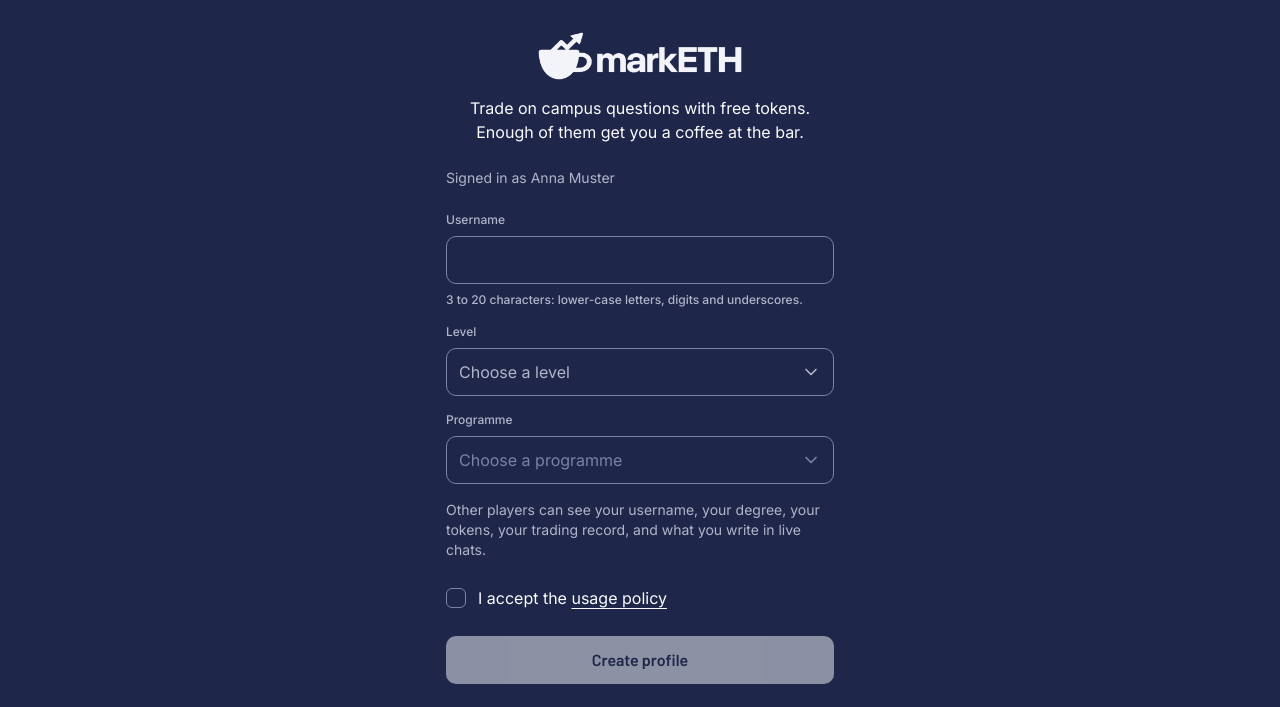
Scenario: a caller without a profile › is not welcomed again when the save did not create the profile
Type "anna_m" into the field labelled "Username". click: (640, 260)
box: [446,236,834,284]
Click the button labelled "Choose a level". click: (514, 372)
box: [446,348,834,396]
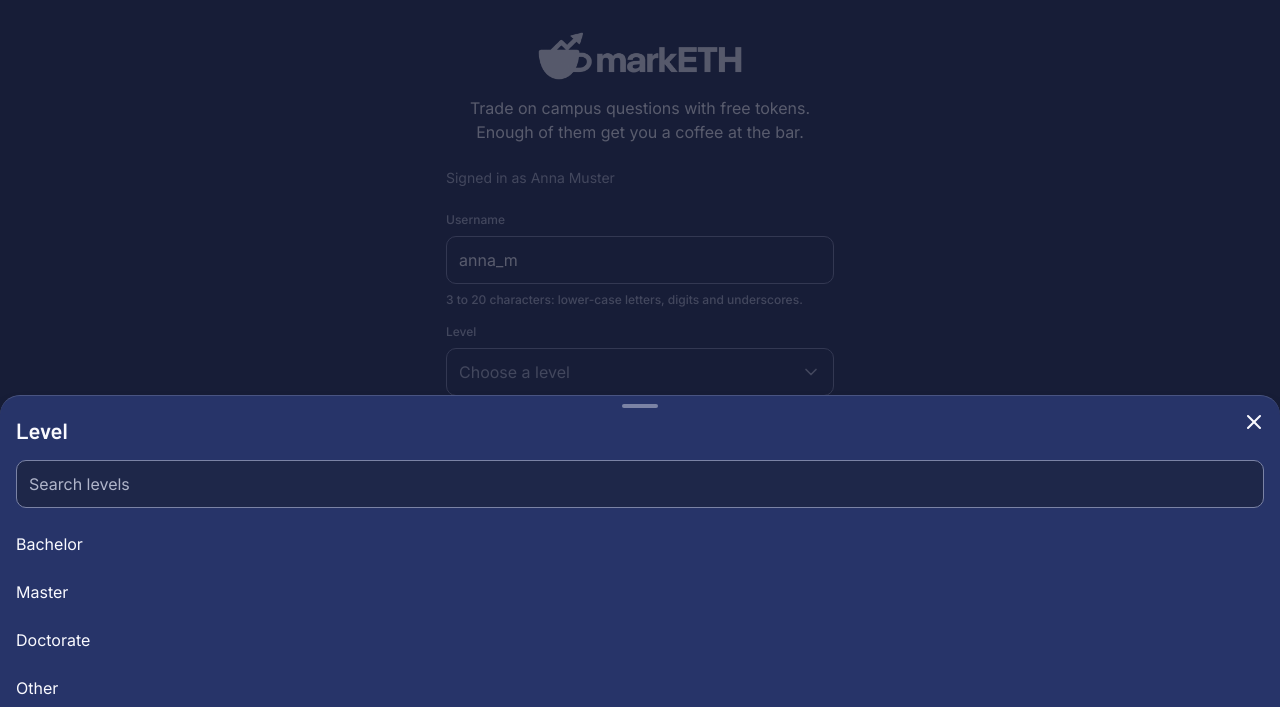
Click the option "Bachelor". click: (49, 544)
box: [16,534,83,554]
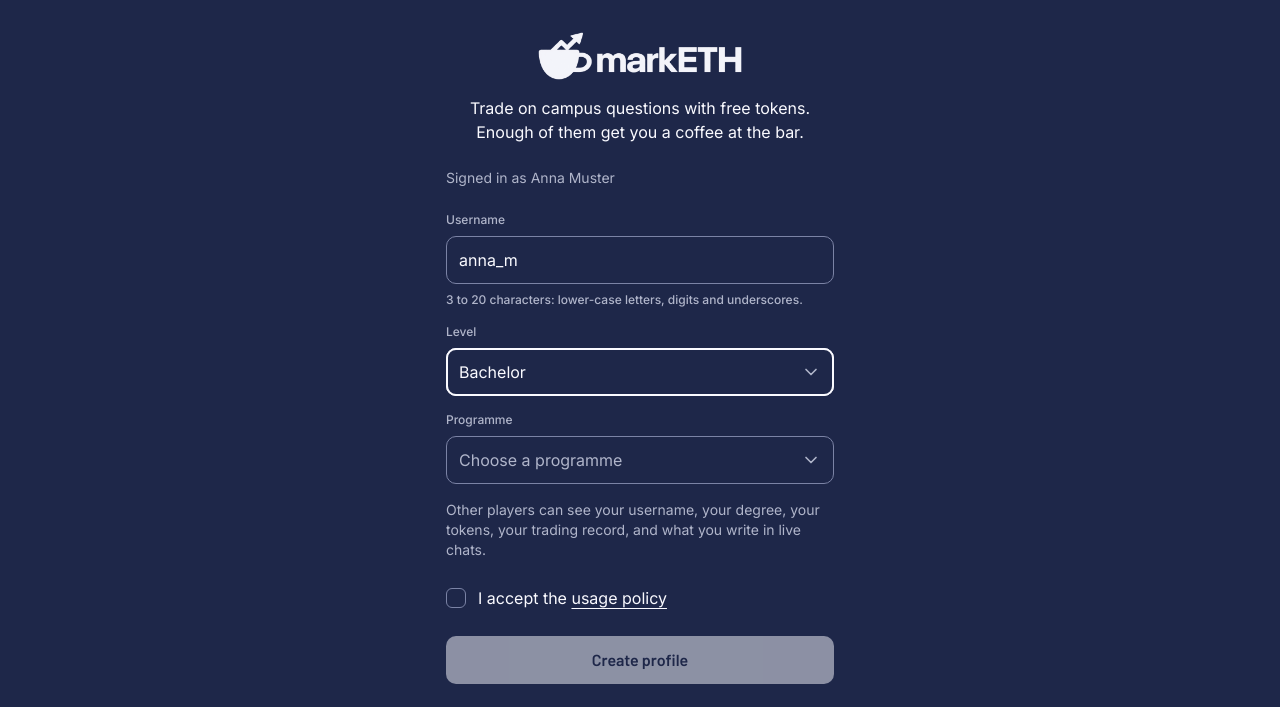
Click the button labelled "Choose a programme". click: (541, 460)
box: [446,436,834,484]
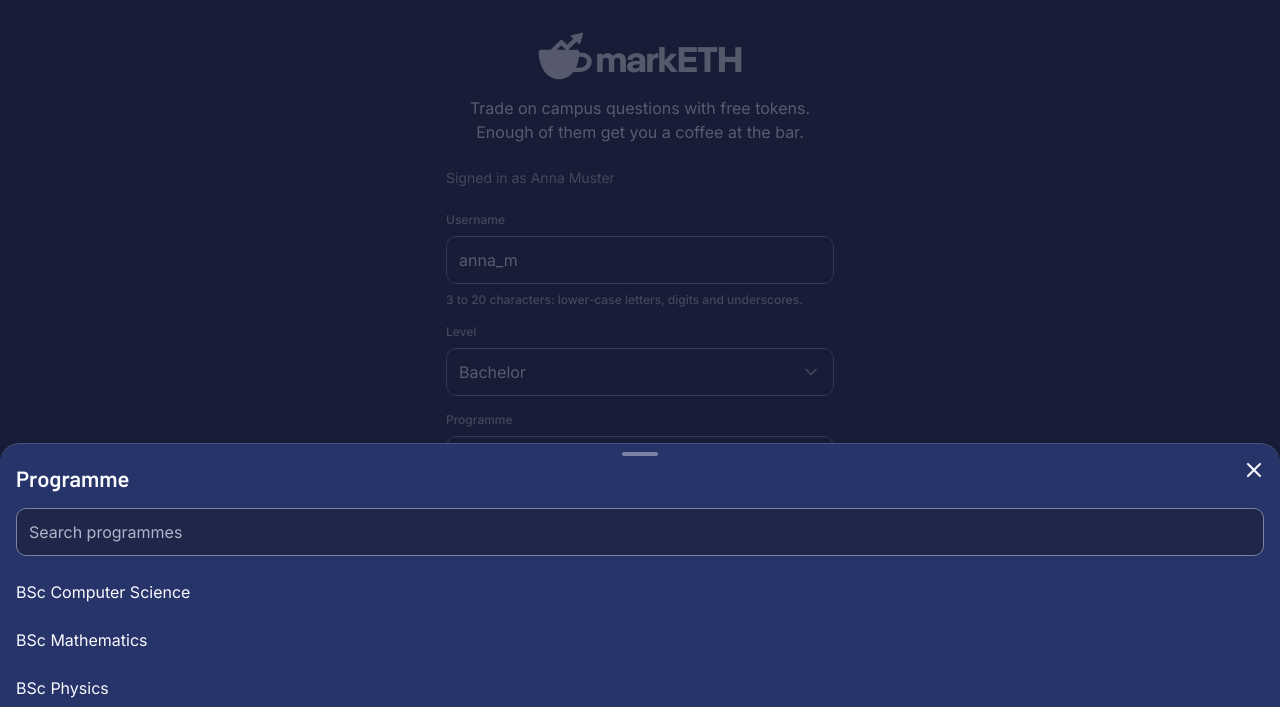
Click the option "BSc Computer Science". click: (103, 592)
box: [16,582,190,602]
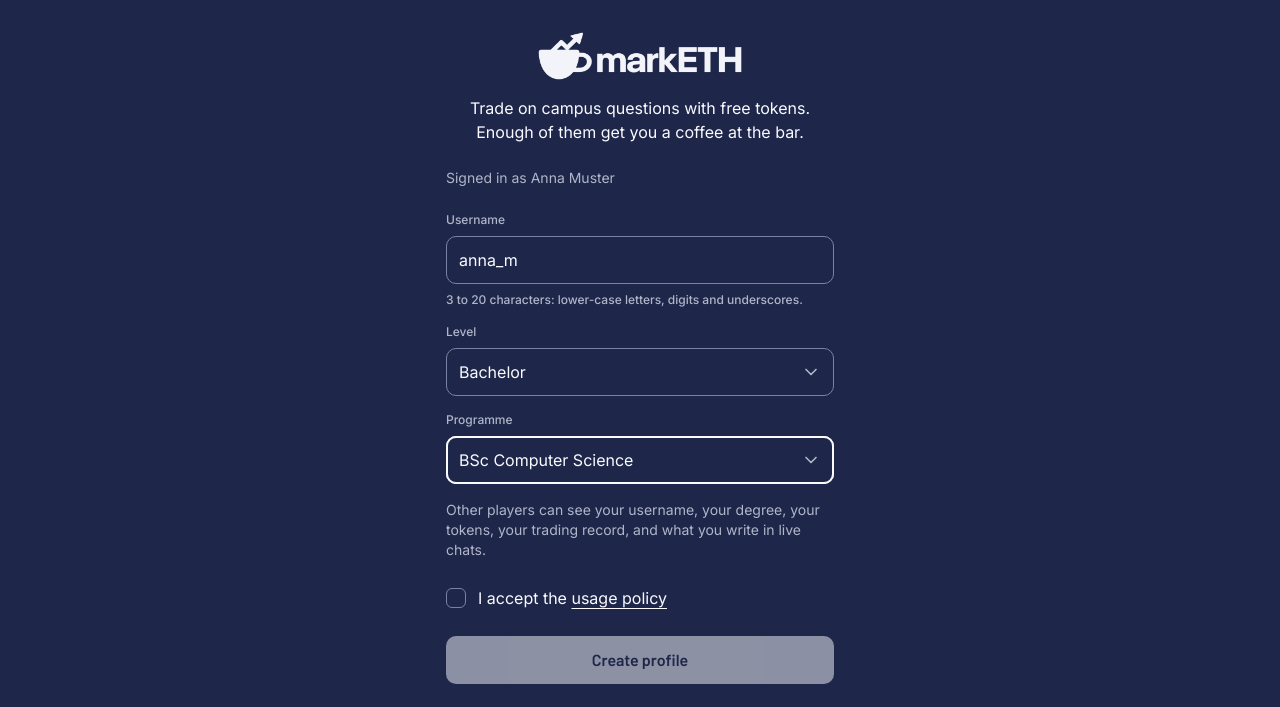
Click the checkbox named "I accept the usage policy". click: (456, 598)
box: [446,588,466,608]
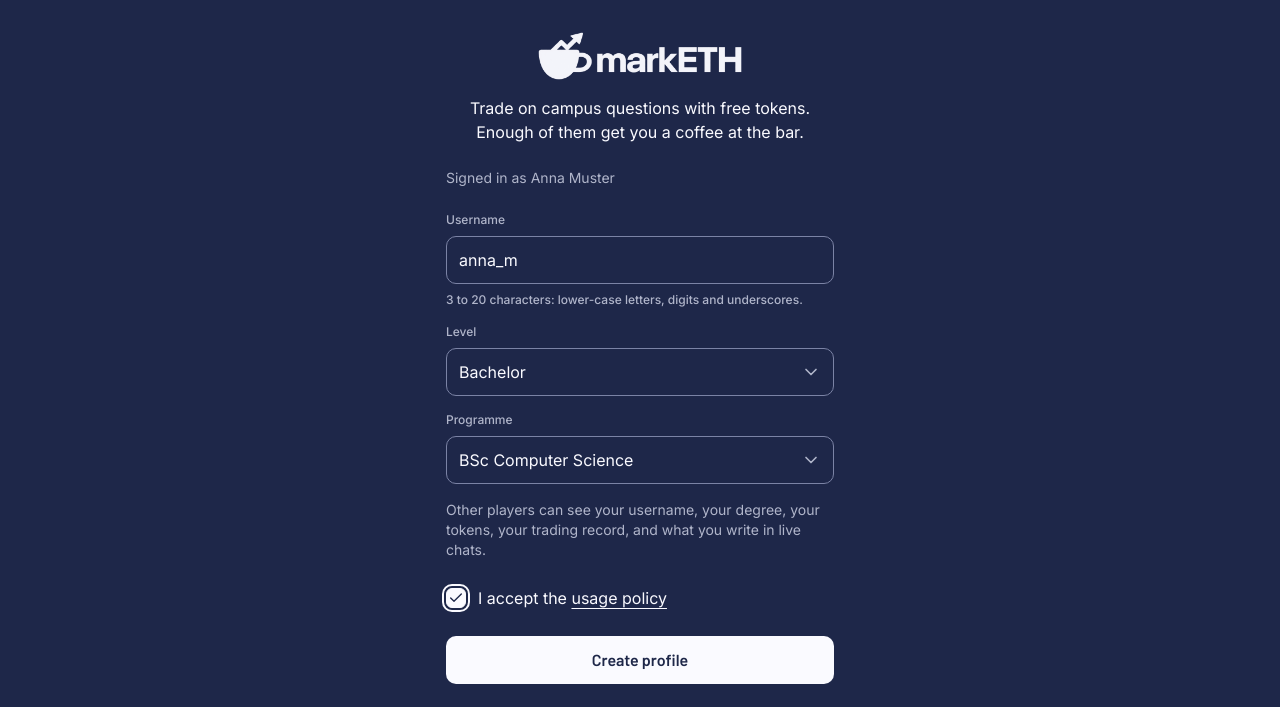
Click the button "Create profile". click: (640, 660)
box: [446,636,834,684]
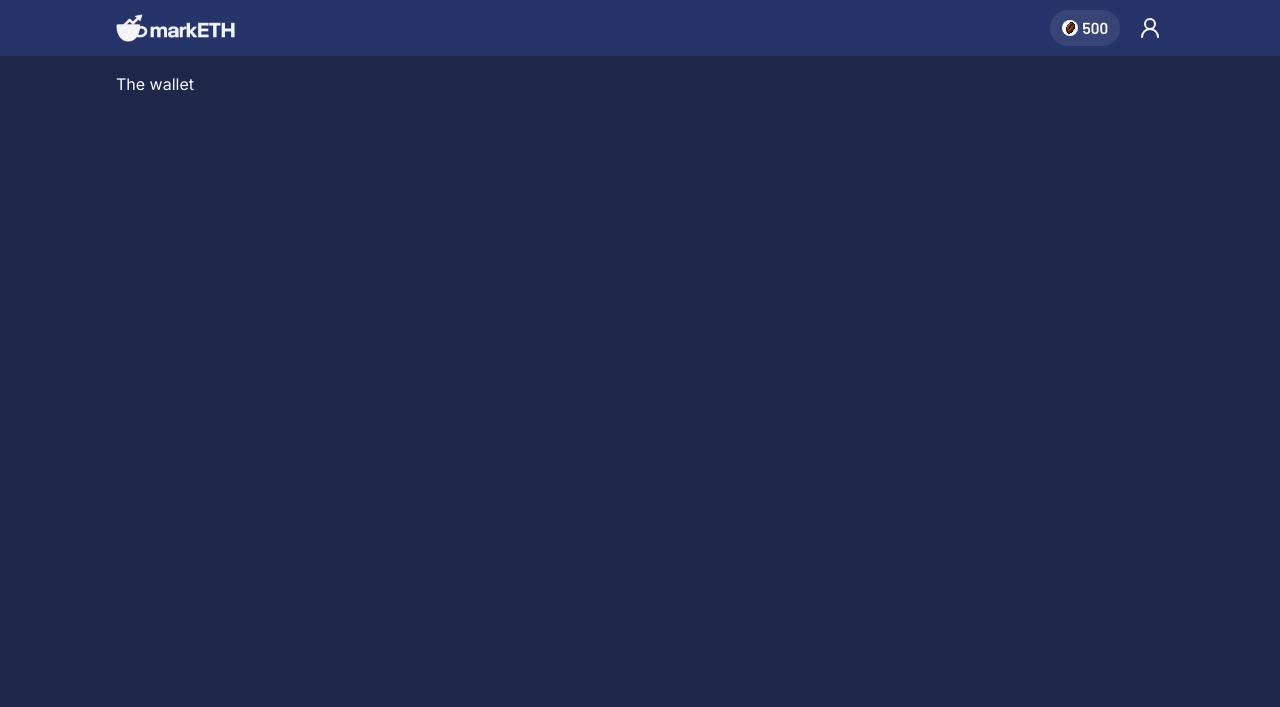
Expected: the text "The wallet" is shown, [116,74,194,94]
